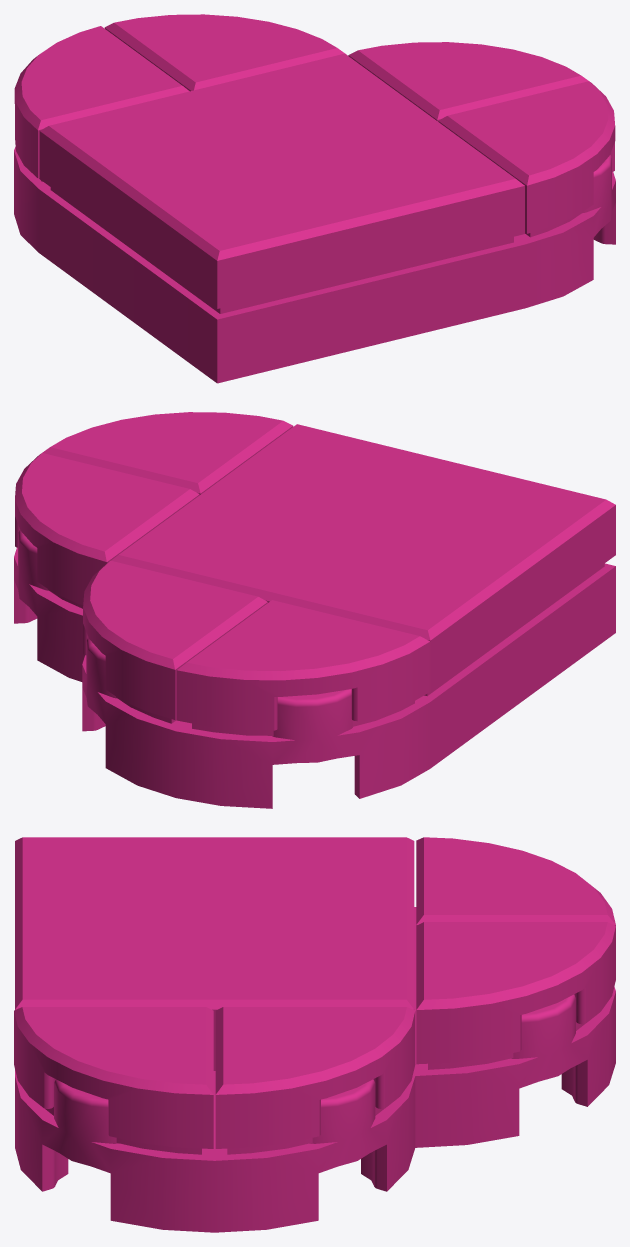
File: heart.fbx
The picture shows the model from 3 angles, top to bottom: view 1: azimuth 30°, elevation 25°; view 2: azimuth 150°, elevation 25°; view 3: azimuth 270°, elevation 25°; orthographic projection. The views are drawn at different scales.
Parts seen in each view (by area): view 1: part.004, part.005, part.002, part.003, part, part.001; view 2: part.004, part.005, part.003, part.001, part, part.002; view 3: part.004, part.005, part, part.001, part.002, part.003.
Part boxes in pixels (box(x1,y1,x2,y2)): part.004: box(39, 53, 524, 313); part.005: box(14, 147, 615, 383); part.002: box(438, 81, 615, 237); part.003: box(14, 26, 189, 181); part: box(348, 42, 588, 121); part.001: box(104, 14, 346, 91); part.004: box(111, 424, 615, 696); part.005: box(14, 530, 615, 808); part.003: box(176, 600, 430, 735); part.001: box(83, 560, 267, 723); part: box(15, 453, 199, 608); part.002: box(42, 412, 293, 494); part.004: box(15, 837, 414, 1070); part.005: box(15, 907, 615, 1232); part: box(215, 1007, 415, 1154); part.001: box(416, 922, 615, 1069); part.002: box(14, 1007, 213, 1154); part.003: box(416, 837, 615, 925).
Size of the model in its own units: 2400 by 636 by 2400.
